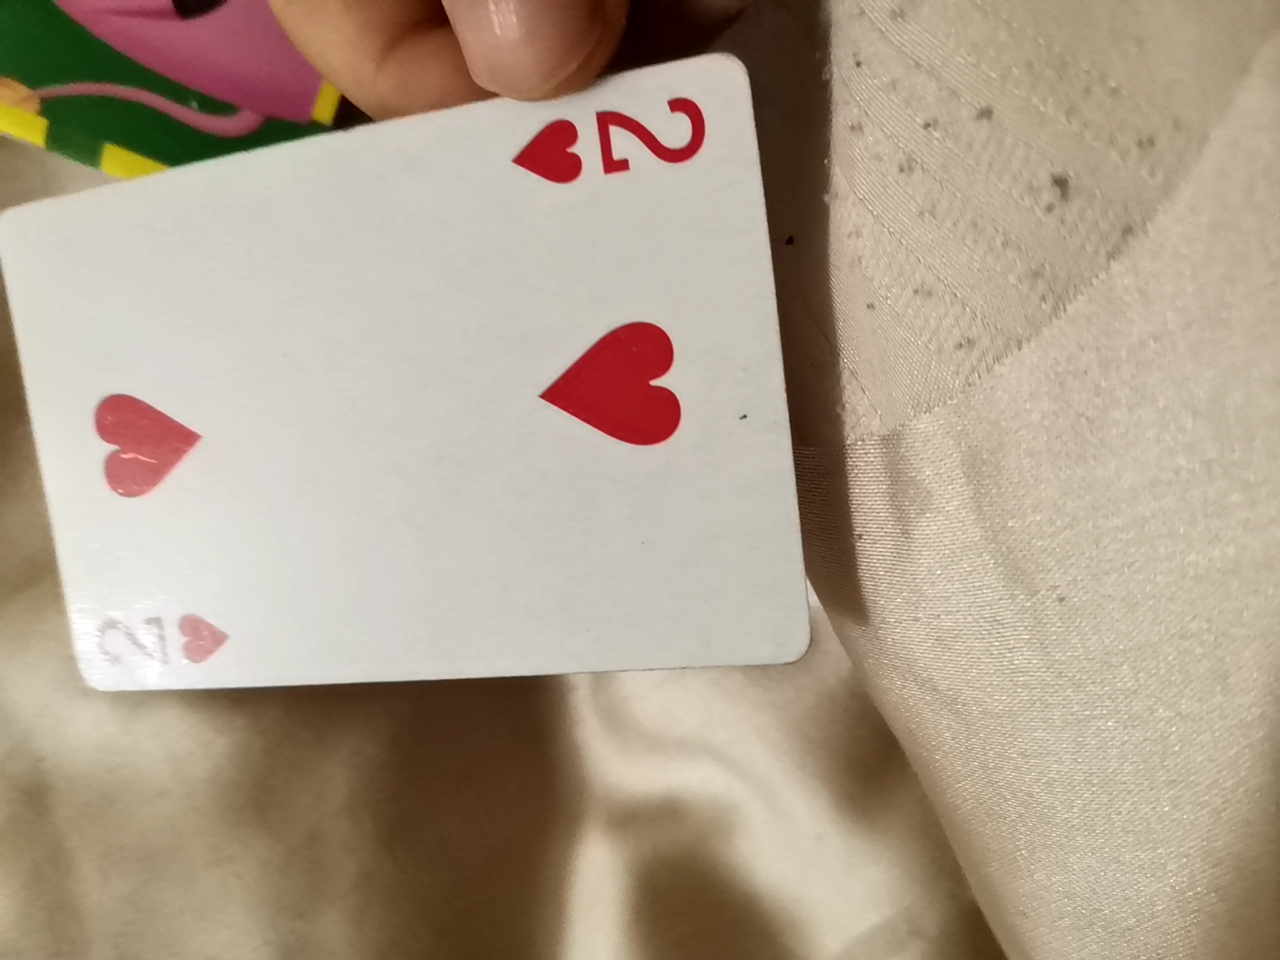hx 2: (6, 118, 843, 689)
